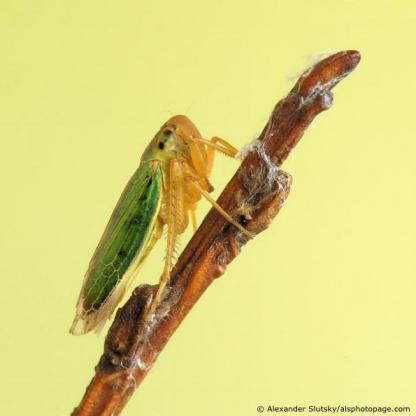Green-Leafhopper: (65, 114, 258, 347)
